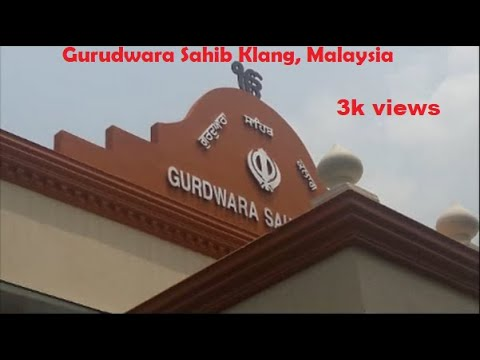Gurdwara: (37, 57, 313, 270)
